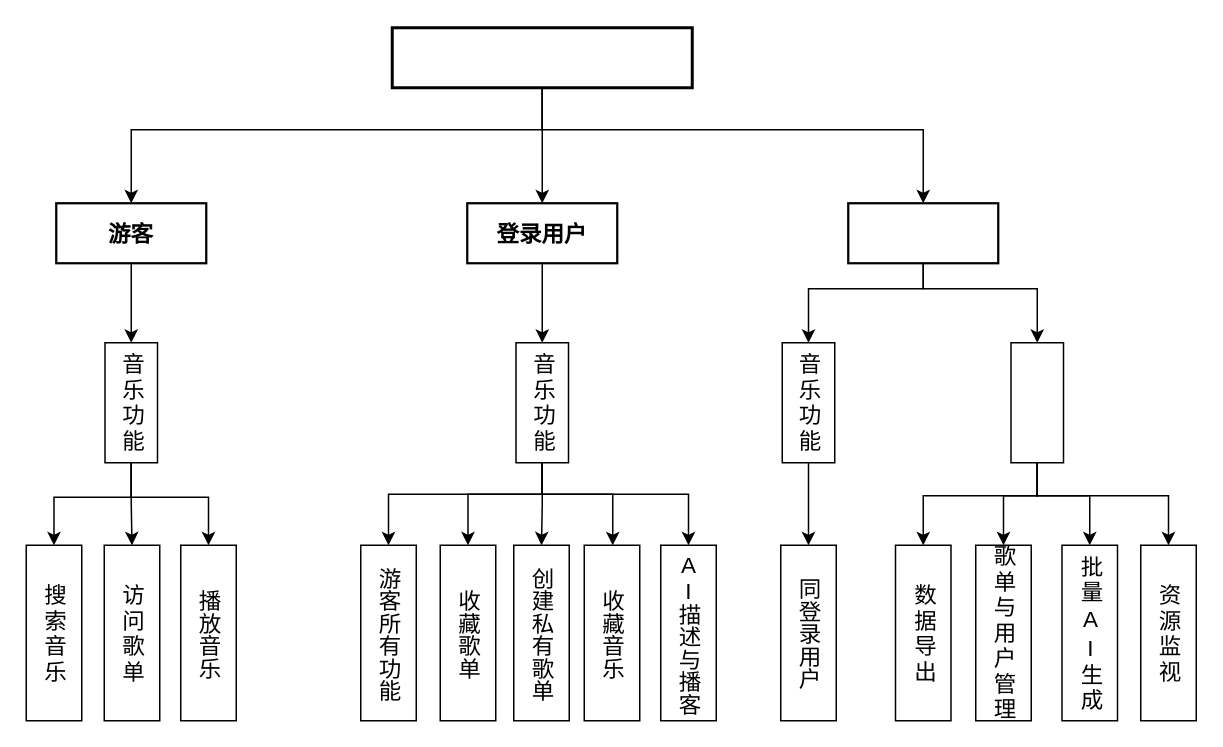
This 1223x747 diagram has some shape labels left out. Each missing label, with the box of its shape:
基于VUE的音乐播放器: (390, 26, 693, 88)
管理员: (846, 201, 999, 264)
系统后台: (1010, 341, 1064, 463)
